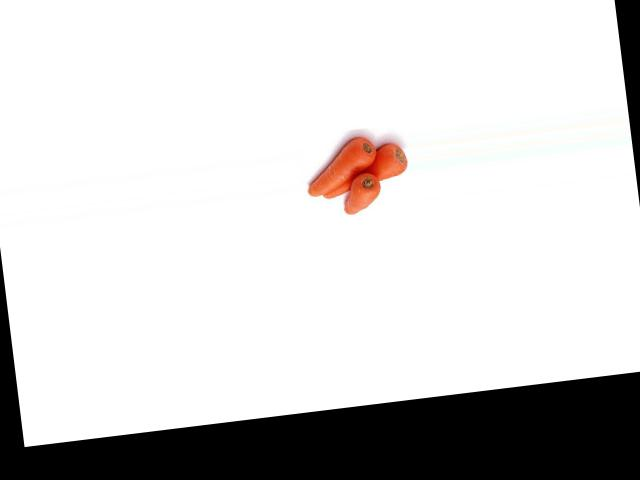carrot: (315, 138, 409, 198)
